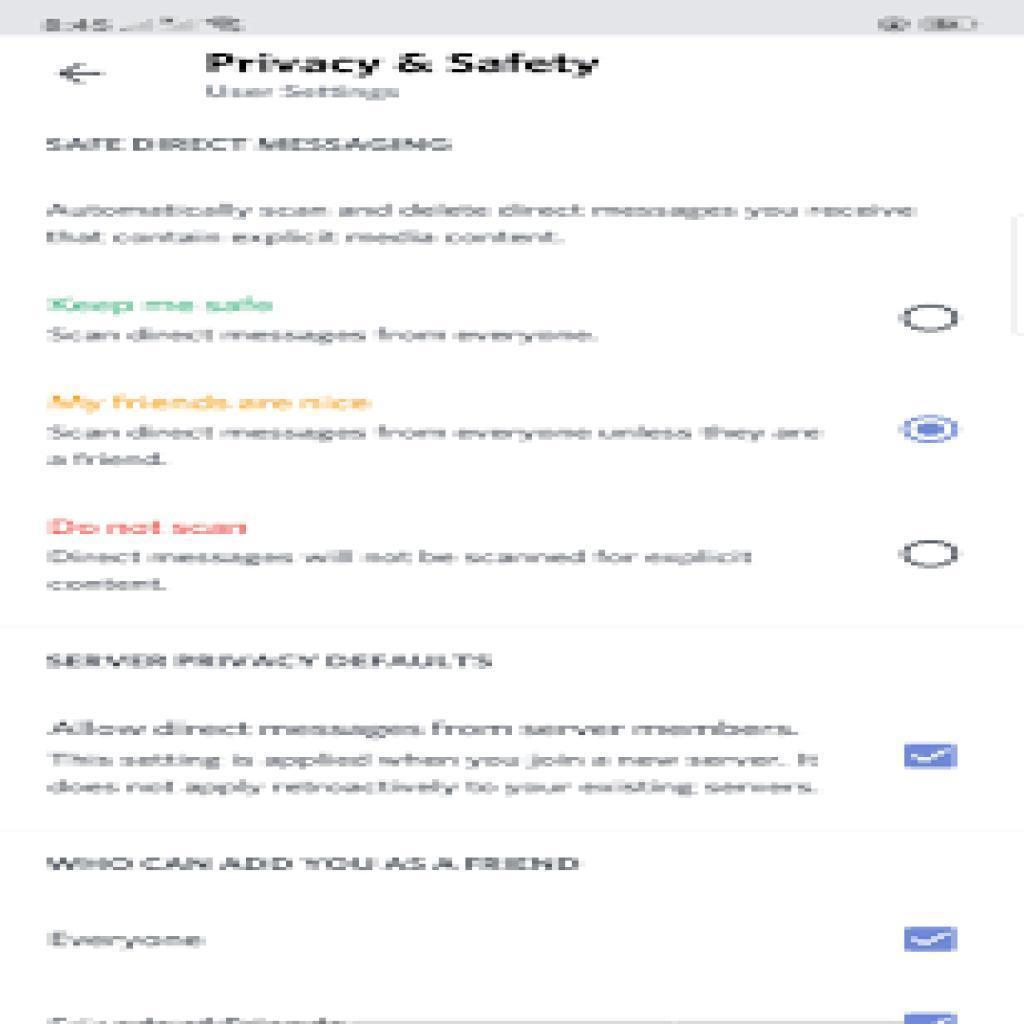checkbox: (902, 742, 959, 771), (903, 924, 956, 954)
radio: (893, 408, 969, 447), (897, 536, 964, 574), (895, 300, 963, 335)
